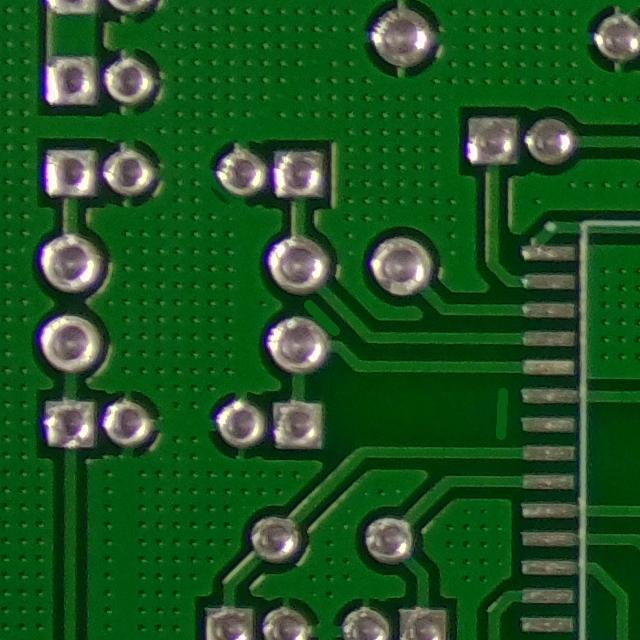spurious_copper: (295, 296, 345, 345)
